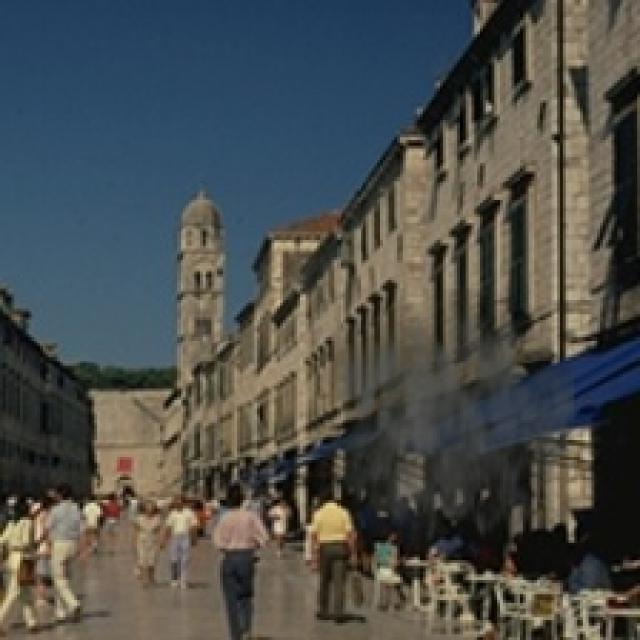Smoke: (314, 288, 574, 572)
